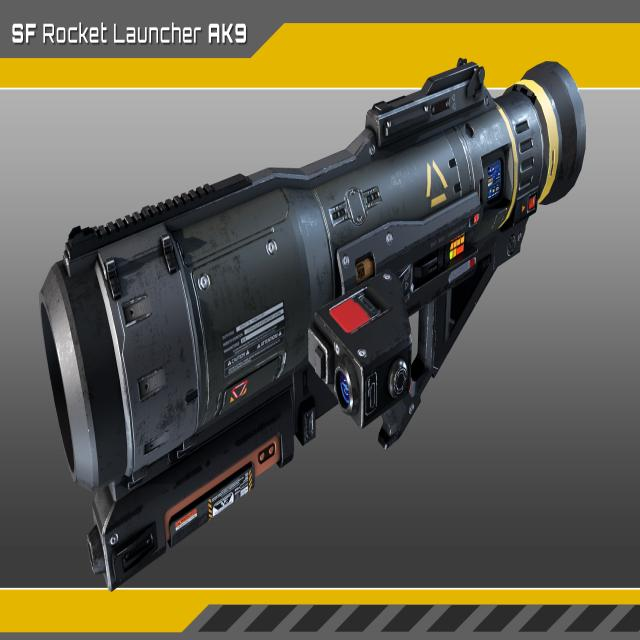bazooka: (7, 40, 613, 634)
